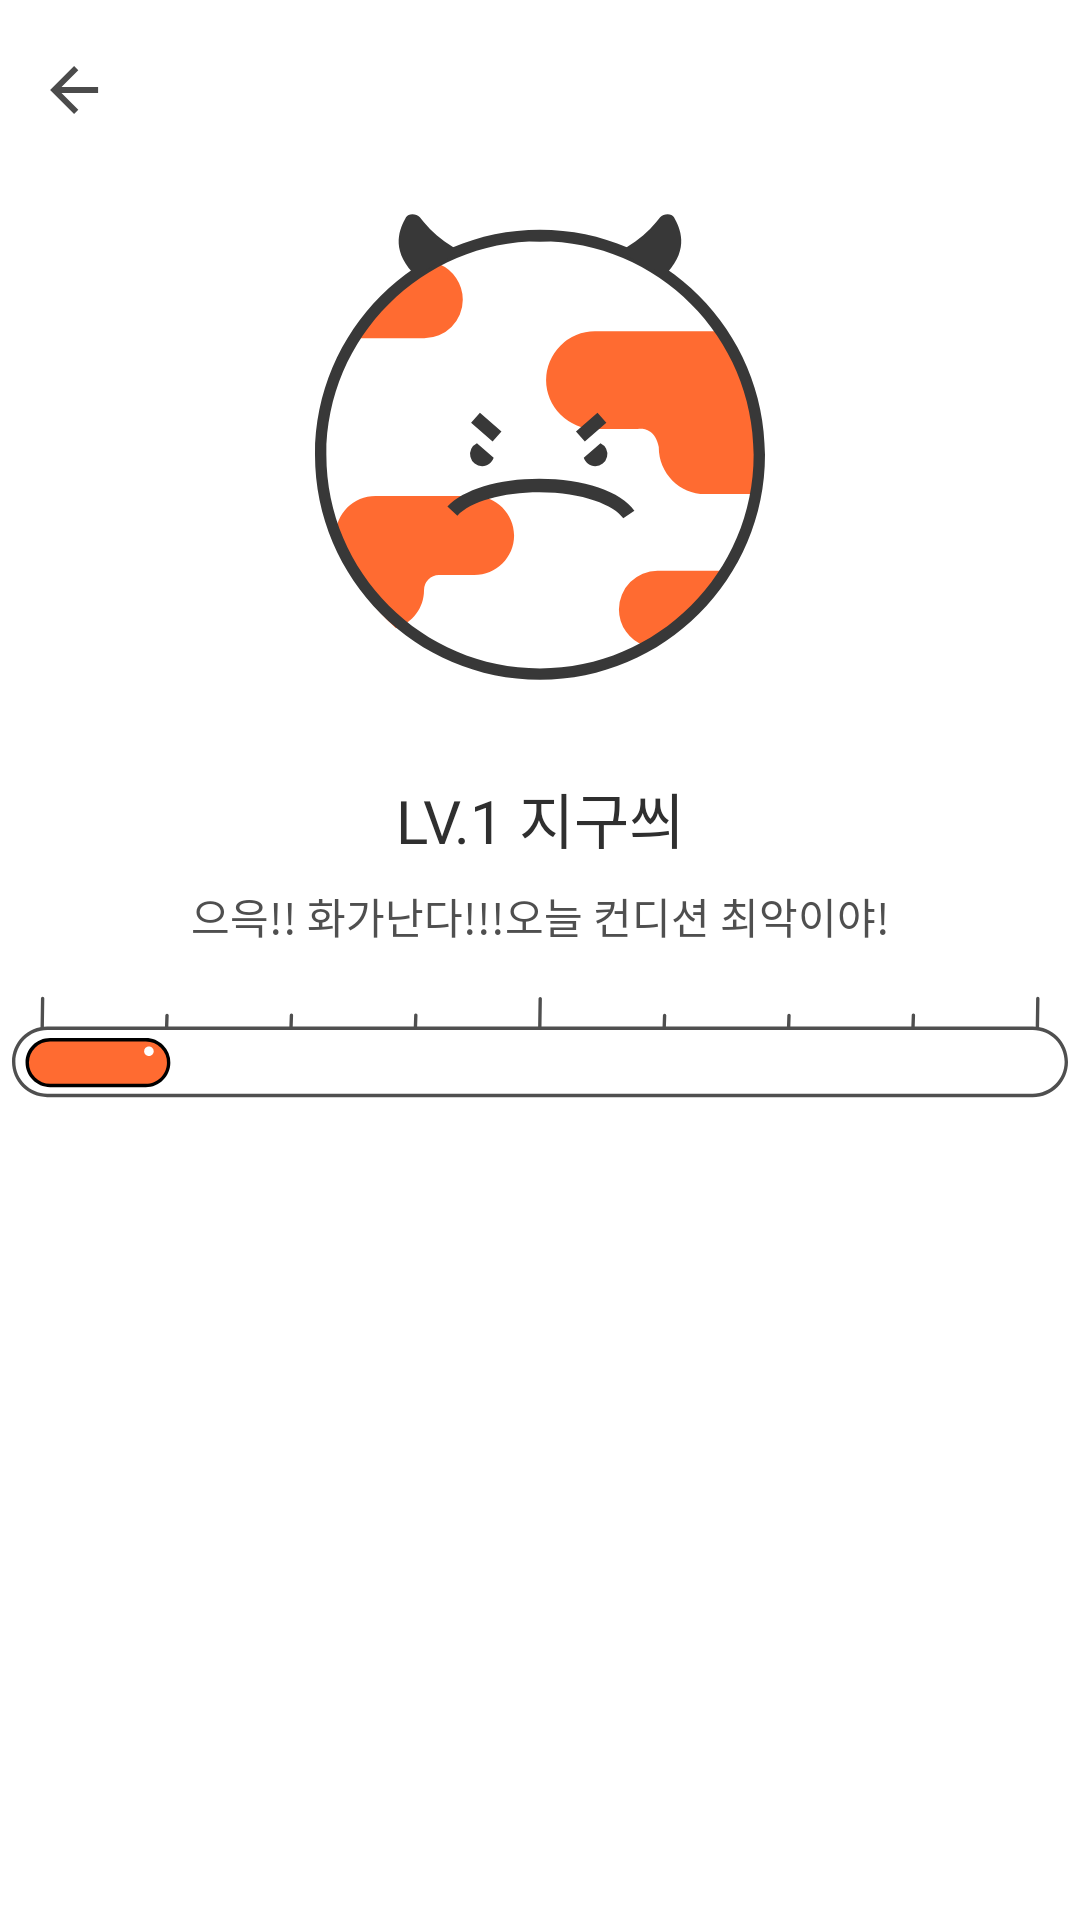

Screen size 1080*1920. Icon name, then its center in pixels as [x,y]:
back: [74,90]
